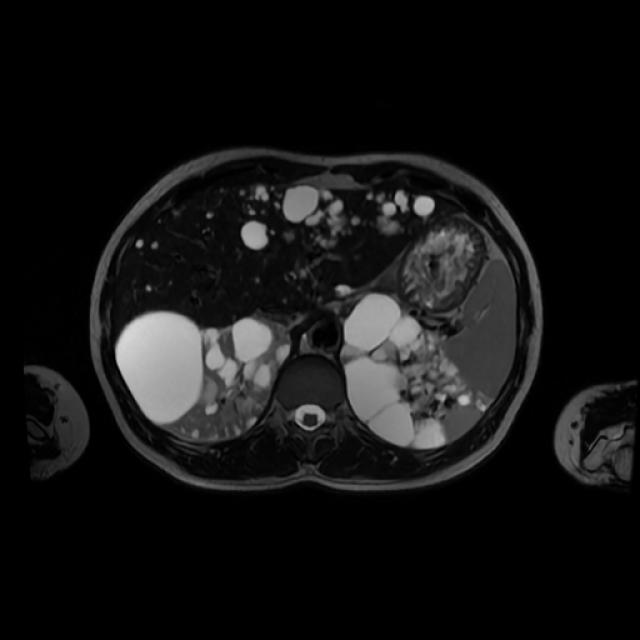sag: (117, 309, 293, 438)
sol: (345, 294, 482, 446)
